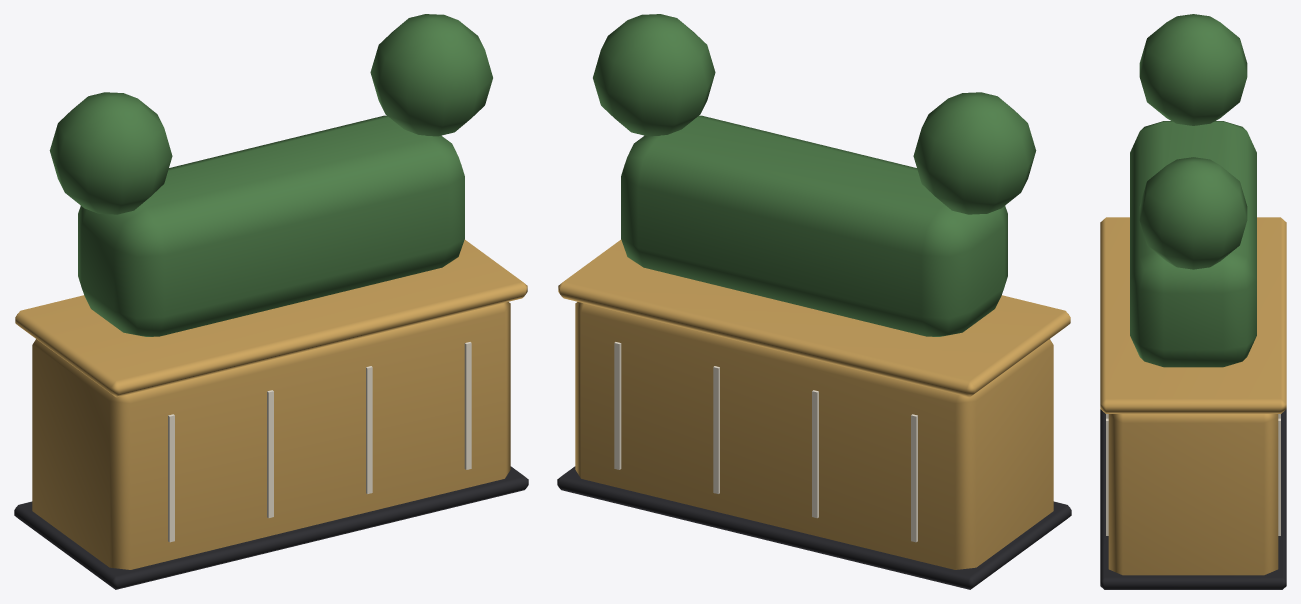
Rendered from gold_planter.glb.
The picture shows the model from 3 angles, left to right: view 1: azimuth 30°, elevation 25°; view 2: azimuth 150°, elevation 25°; view 3: azimuth 270°, elevation 25°; orthographic projection. The views are drawn at different scales.
Parts seen in each view (by area): view 1: gold_planter; view 2: gold_planter; view 3: gold_planter.
Part boxes in pixels (x1=…): gold_planter: x1=14, y1=14, x2=528, y2=589; gold_planter: x1=557, y1=14, x2=1071, y2=589; gold_planter: x1=1100, y1=14, x2=1286, y2=589.
Bounding box in the file's own units: 1.6 × 1.6 × 0.66.
